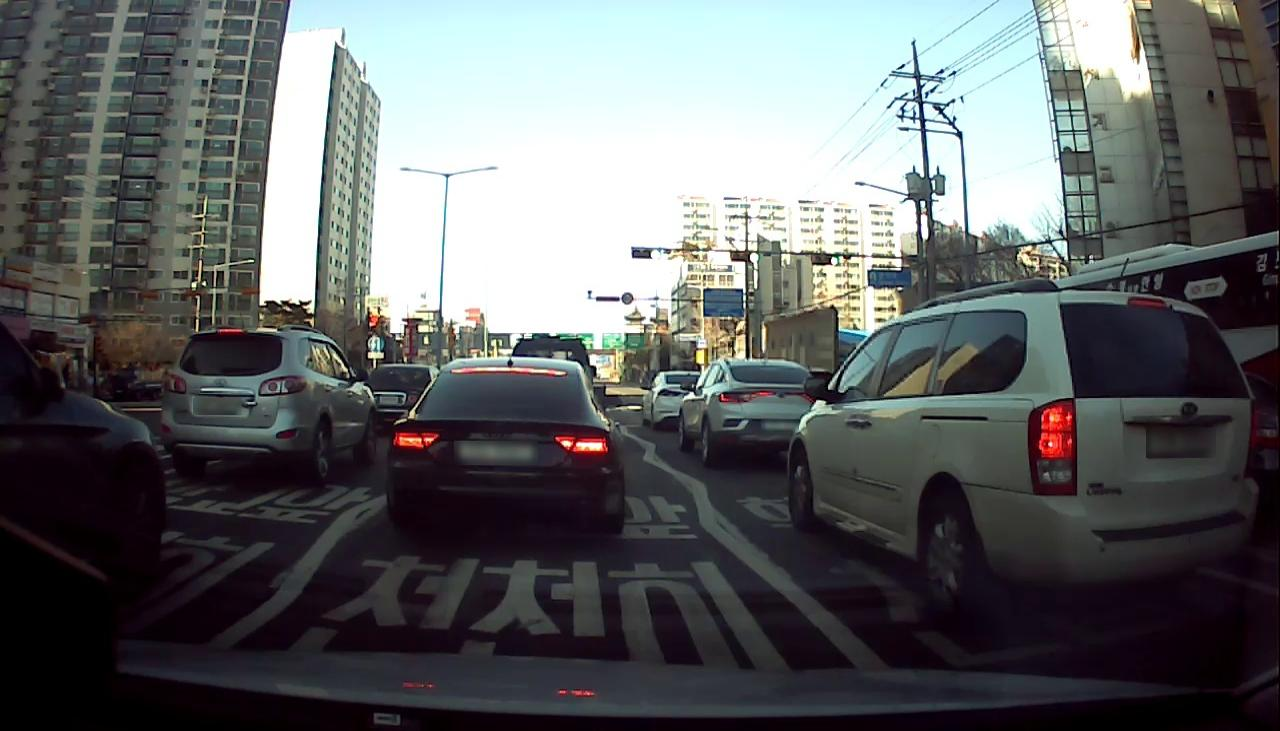Green Light: (649, 247, 662, 262), (828, 254, 840, 266), (748, 252, 761, 263)
